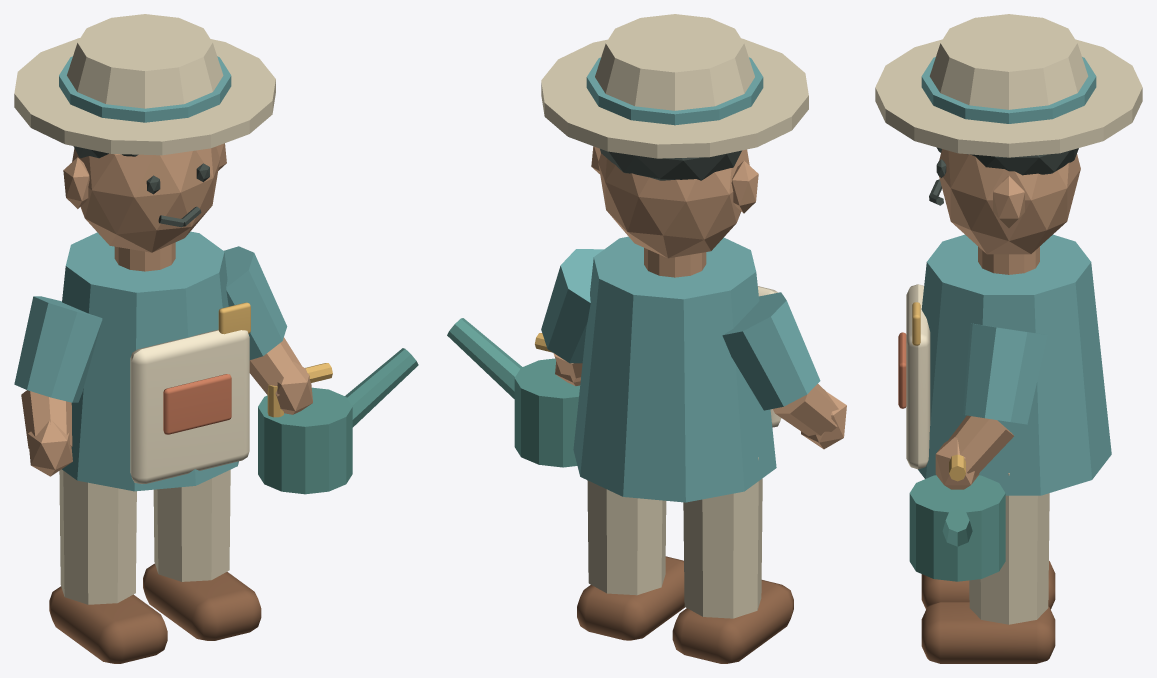
File: ai_gardener_npc.glb
The picture shows the model from 3 angles, left to right: view 1: azimuth 30°, elevation 25°; view 2: azimuth 150°, elevation 25°; view 3: azimuth 270°, elevation 25°; orthographic projection. The views are drawn at different scales.
Visible parts, largest first — view 1: AI_Gardener_NPC; view 2: AI_Gardener_NPC; view 3: AI_Gardener_NPC.
Part boxes in pixels (x1,y1,x2,y2): AI_Gardener_NPC: (14,14,418,663); AI_Gardener_NPC: (447,14,846,663); AI_Gardener_NPC: (875,14,1142,663).
Bounding box in the file's own units: 1.32 × 1.9 × 0.78.
